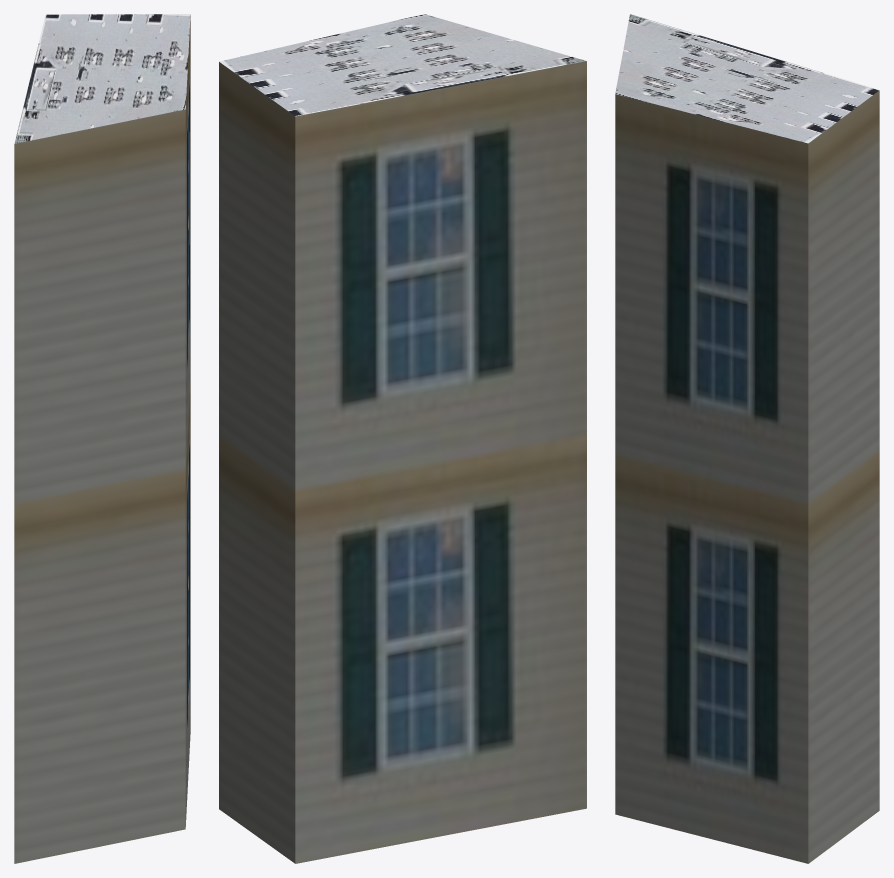
The model's file is ResTex__3447.fbx.
3 views of the same model, side by side, from view 1: azimuth 30°, elevation 25°; view 2: azimuth 150°, elevation 25°; view 3: azimuth 270°, elevation 25° (orthographic). The views are drawn at different scales.
Visible parts, largest first — view 1: CityEngineMaterial_7_m, CityEngineMaterial_4_m; view 2: CityEngineMaterial_7_m, CityEngineMaterial_4_m; view 3: CityEngineMaterial_7_m, CityEngineMaterial_4_m.
Part boxes in pixels (x1=…): CityEngineMaterial_7_m: x1=14, y1=15, x2=190, y2=863; CityEngineMaterial_4_m: x1=14, y1=14, x2=190, y2=143; CityEngineMaterial_7_m: x1=219, y1=61, x2=586, y2=863; CityEngineMaterial_4_m: x1=219, y1=14, x2=586, y2=116; CityEngineMaterial_7_m: x1=615, y1=90, x2=879, y2=863; CityEngineMaterial_4_m: x1=615, y1=14, x2=879, y2=143.
Bounding box in the file's own units: 2.31 × 6 × 2.
2 materials, 2 textured.
